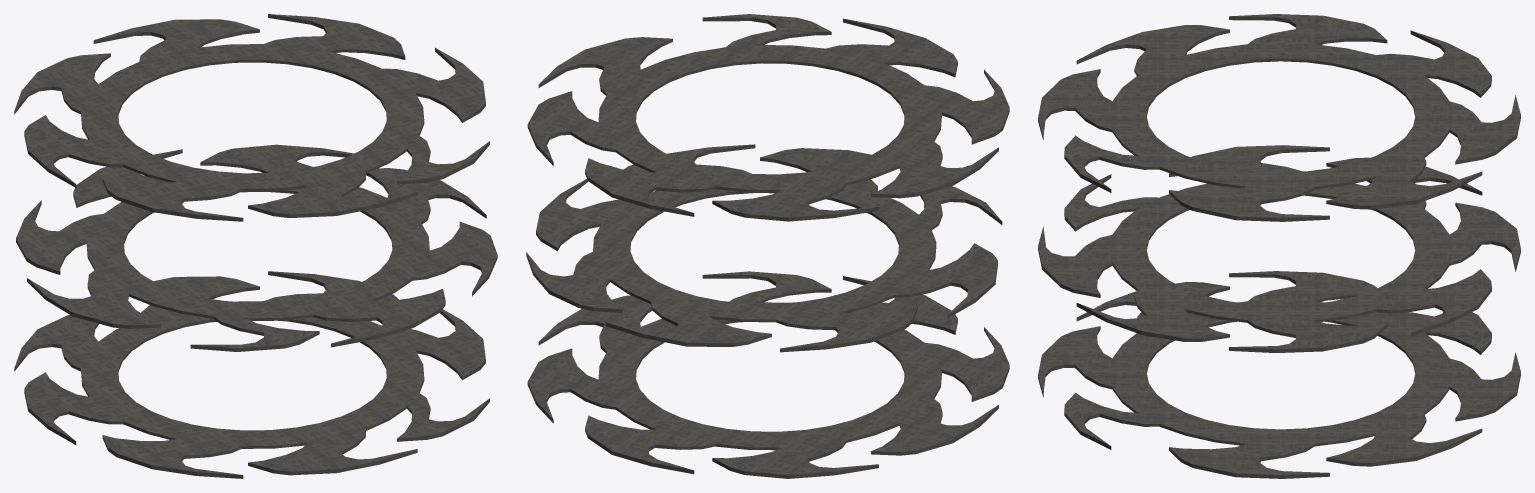
Rendered from xenosands-SolarTunnel-fans.glb.
The picture shows the model from 3 angles, left to right: view 1: azimuth 30°, elevation 25°; view 2: azimuth 150°, elevation 25°; view 3: azimuth 270°, elevation 25°; orthographic projection.
Visible parts, largest first — view 1: TurbineFan.001, TurbineFan.002, TurbineFan; view 2: TurbineFan.001, TurbineFan.002, TurbineFan; view 3: TurbineFan.001, TurbineFan.002, TurbineFan.
Boxes of the visible parts, box(x1,y1,x2,y2) form: TurbineFan.001: box(14, 14, 489, 221); TurbineFan.002: box(14, 271, 489, 478); TurbineFan: box(16, 144, 497, 351); TurbineFan.001: box(527, 14, 1009, 221); TurbineFan.002: box(527, 271, 1009, 478); TurbineFan: box(526, 144, 1002, 352); TurbineFan.001: box(1038, 14, 1520, 221); TurbineFan.002: box(1038, 271, 1520, 478); TurbineFan: box(1038, 145, 1520, 352).
Bounding box in the file's own units: 4.64 × 2.76 × 4.63.
Materials: 1 (1 with a texture image).
